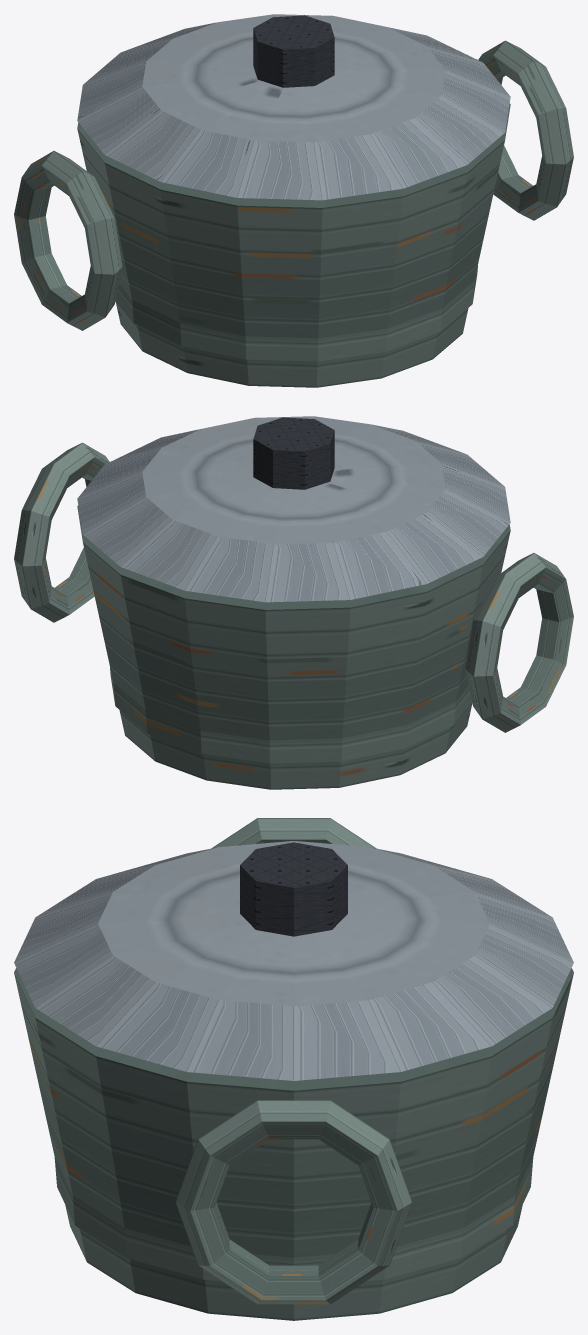
The model's file is MD_63_CookingPot.fbx.
3 renders of one model, top to bottom at view 1: azimuth 30°, elevation 25°; view 2: azimuth 150°, elevation 25°; view 3: azimuth 270°, elevation 25°, orthographic. The views are drawn at different scales.
Visible parts, largest first — view 1: MD_63_CookingPot_hollow_pan, MD_63_CookingPot_separate_pot_lid, MD_63_CookingPot_pot_handle, MD_63_CookingPot_pot_handle.001, MD_63_CookingPot_lid_grip; view 2: MD_63_CookingPot_hollow_pan, MD_63_CookingPot_separate_pot_lid, MD_63_CookingPot_pot_handle, MD_63_CookingPot_pot_handle.001, MD_63_CookingPot_lid_grip; view 3: MD_63_CookingPot_hollow_pan, MD_63_CookingPot_separate_pot_lid, MD_63_CookingPot_pot_handle.001, MD_63_CookingPot_lid_grip, MD_63_CookingPot_pot_handle.
Boxes of the visible parts, bbox=[...] form: MD_63_CookingPot_hollow_pan: bbox=[77, 103, 510, 387]; MD_63_CookingPot_separate_pot_lid: bbox=[77, 14, 510, 200]; MD_63_CookingPot_pot_handle: bbox=[14, 151, 122, 330]; MD_63_CookingPot_pot_handle.001: bbox=[478, 40, 573, 220]; MD_63_CookingPot_lid_grip: bbox=[253, 15, 334, 87]; MD_63_CookingPot_hollow_pan: bbox=[77, 505, 510, 789]; MD_63_CookingPot_separate_pot_lid: bbox=[77, 416, 510, 602]; MD_63_CookingPot_pot_handle: bbox=[465, 553, 573, 732]; MD_63_CookingPot_pot_handle.001: bbox=[14, 442, 109, 622]; MD_63_CookingPot_lid_grip: bbox=[253, 417, 334, 489]; MD_63_CookingPot_hollow_pan: bbox=[14, 968, 573, 1320]; MD_63_CookingPot_separate_pot_lid: bbox=[14, 841, 573, 1080]; MD_63_CookingPot_pot_handle.001: bbox=[175, 1100, 412, 1304]; MD_63_CookingPot_lid_grip: bbox=[240, 842, 347, 936]; MD_63_CookingPot_pot_handle: bbox=[211, 818, 376, 848].
Bounding box in the file's own units: 0.329 × 0.185 × 0.26.
3 materials, 3 textured.
